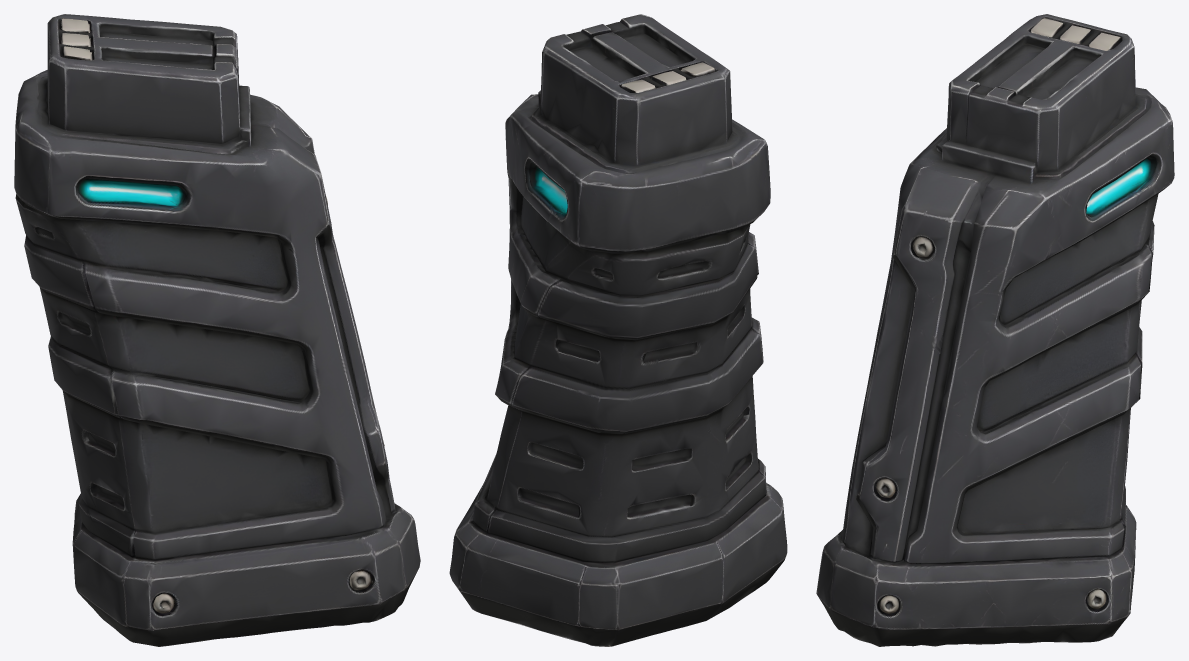
Rendered from fp_mag.glb.
3 views of the same model, side by side, from view 1: azimuth 30°, elevation 25°; view 2: azimuth 150°, elevation 25°; view 3: azimuth 270°, elevation 25° (orthographic). The views are drawn at different scales.
Visible parts, largest first — view 1: tripo_node_995f16f9-0aff-4eba-947f-4fba68214020; view 2: tripo_node_995f16f9-0aff-4eba-947f-4fba68214020; view 3: tripo_node_995f16f9-0aff-4eba-947f-4fba68214020.
Part boxes in pixels (x1,y1,x2,y2): tripo_node_995f16f9-0aff-4eba-947f-4fba68214020: (14,14,420,646); tripo_node_995f16f9-0aff-4eba-947f-4fba68214020: (449,14,787,646); tripo_node_995f16f9-0aff-4eba-947f-4fba68214020: (816,14,1174,646).
Size of the model in its own units: 0.583 by 1 by 0.6134.
1 material, 1 textured.
